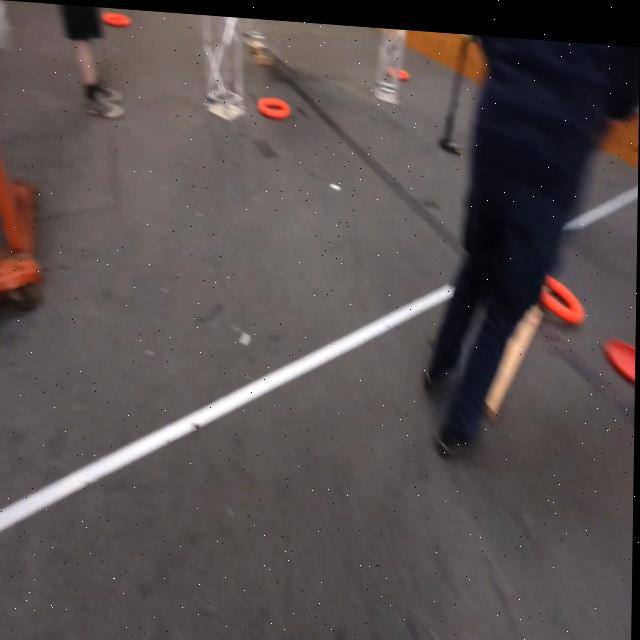note: (541, 266, 587, 316), (257, 93, 291, 119), (96, 6, 131, 27), (391, 61, 410, 75)
